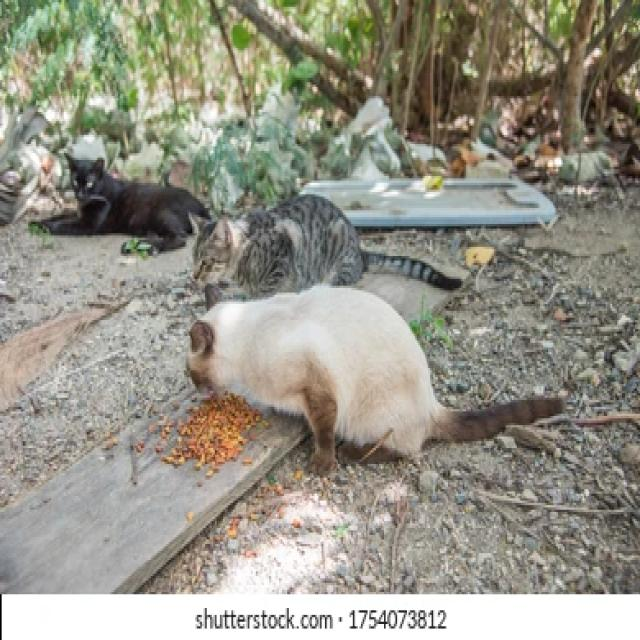cat: (186, 287, 564, 473), (197, 195, 463, 295), (40, 155, 209, 250)
